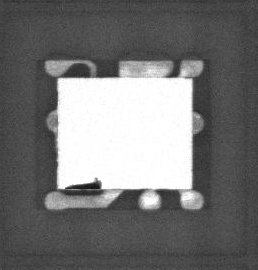DIE_BROKEN: (63, 177, 103, 190)
